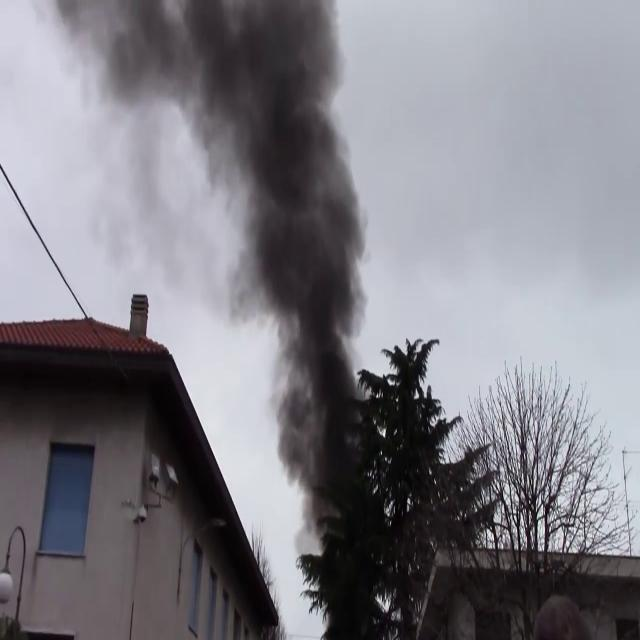Smoke: (89, 0, 375, 533)
